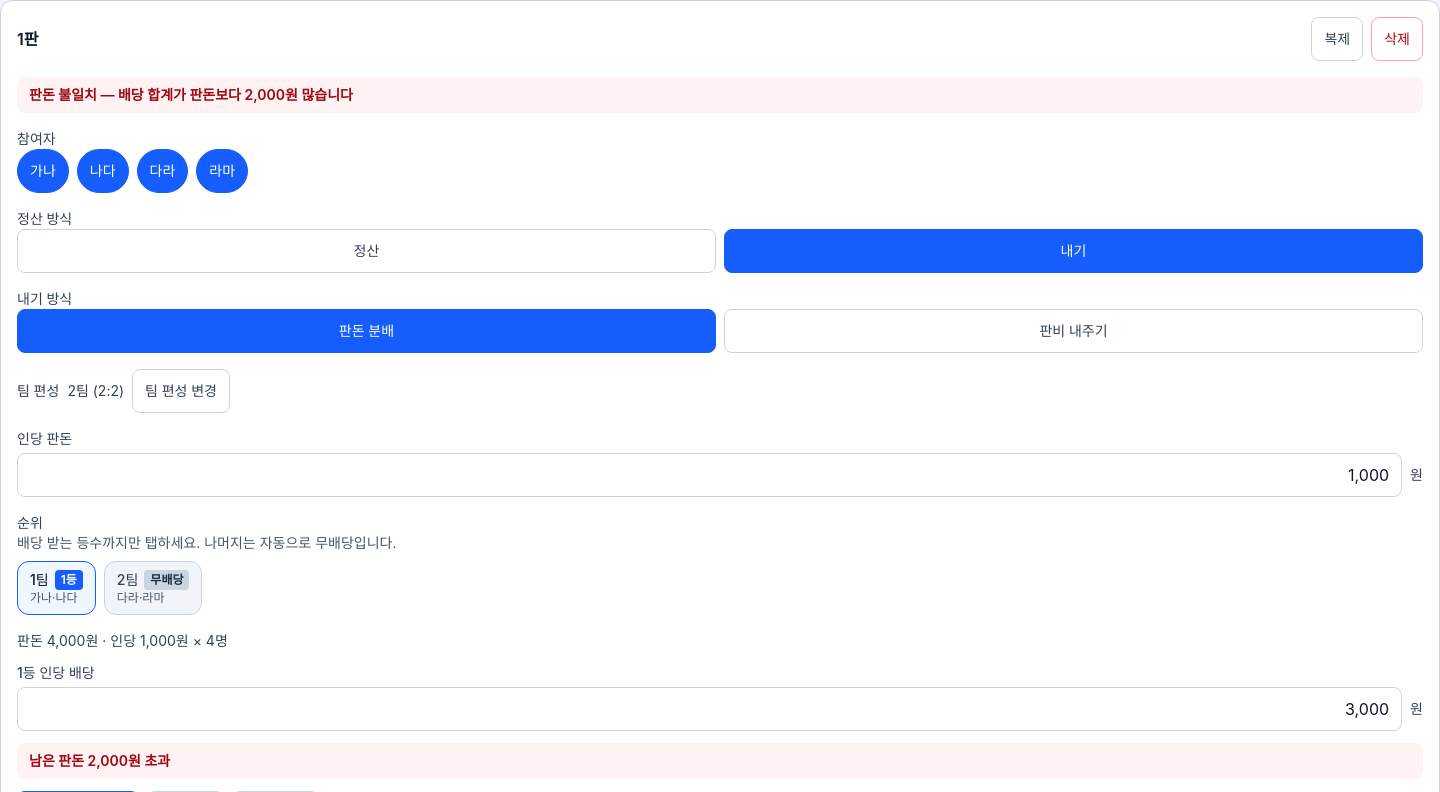
Test: RoundCard — 정산/내기 2단 세그먼트 › 정산 버튼을 누르면 method 가 none 이 되고 내기 UI가 사라진다
The width and height of the screenshot is (1440, 792).
expect the element "내기 방식" is shown: met, box top-left (17, 289), bottom-right (1423, 353)
What coordinates should you click on to do the following:
click the button "정산"
I would click on:
 (366, 251)
Its box is top-left (17, 229), bottom-right (716, 273).
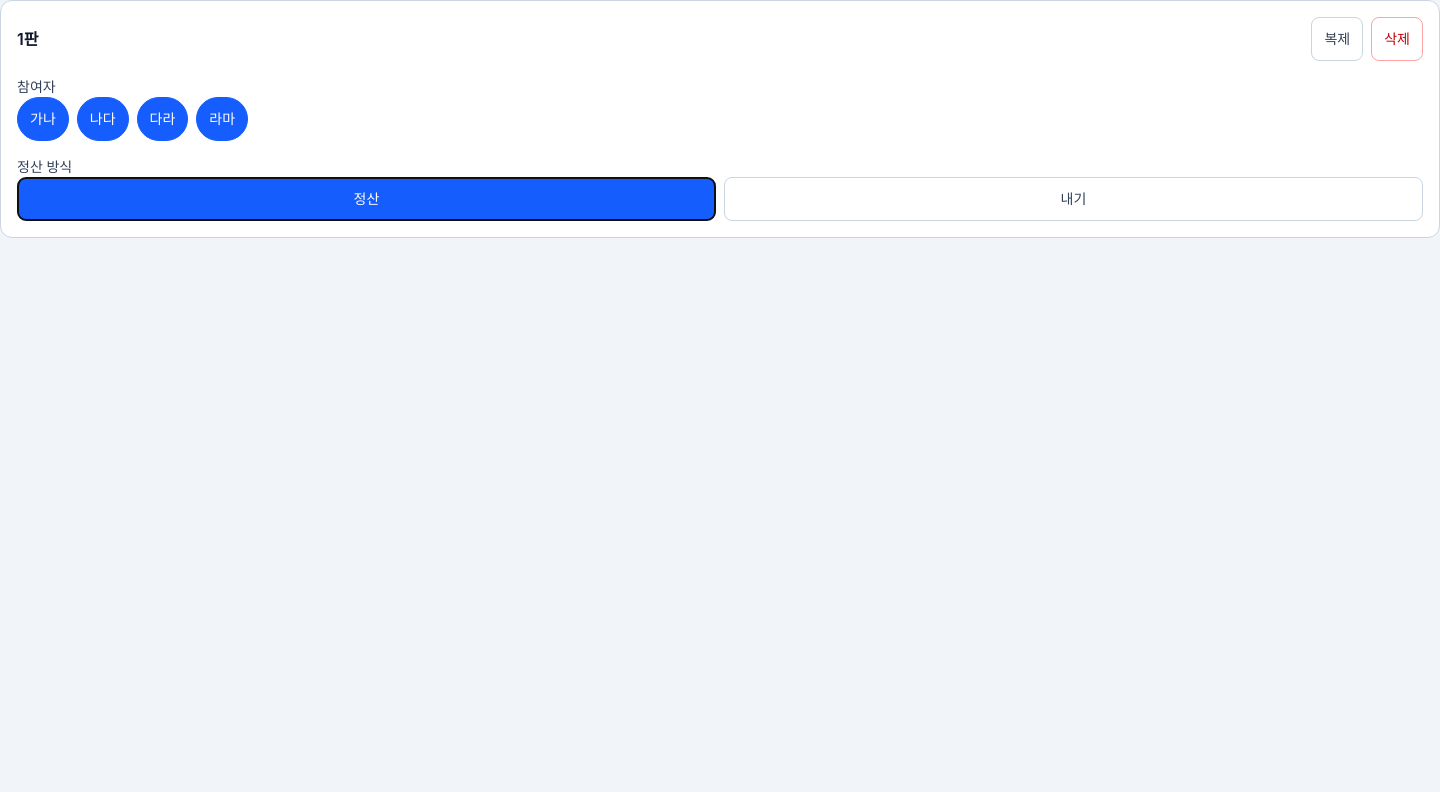
expect the text "내기 방식" is gone: met
expect the button "판돈 분배" is gone: met
expect the button "판비 내주기" is gone: met
